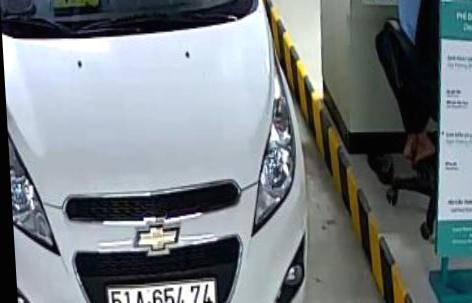License_Plate: (104, 281, 221, 302)
